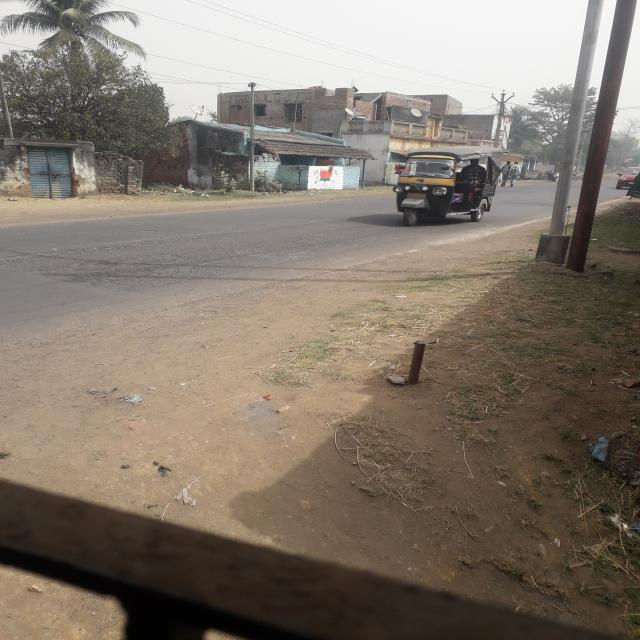Bike: (544, 166, 560, 184)
Car: (614, 161, 640, 192)
tempo: (391, 142, 502, 226)
